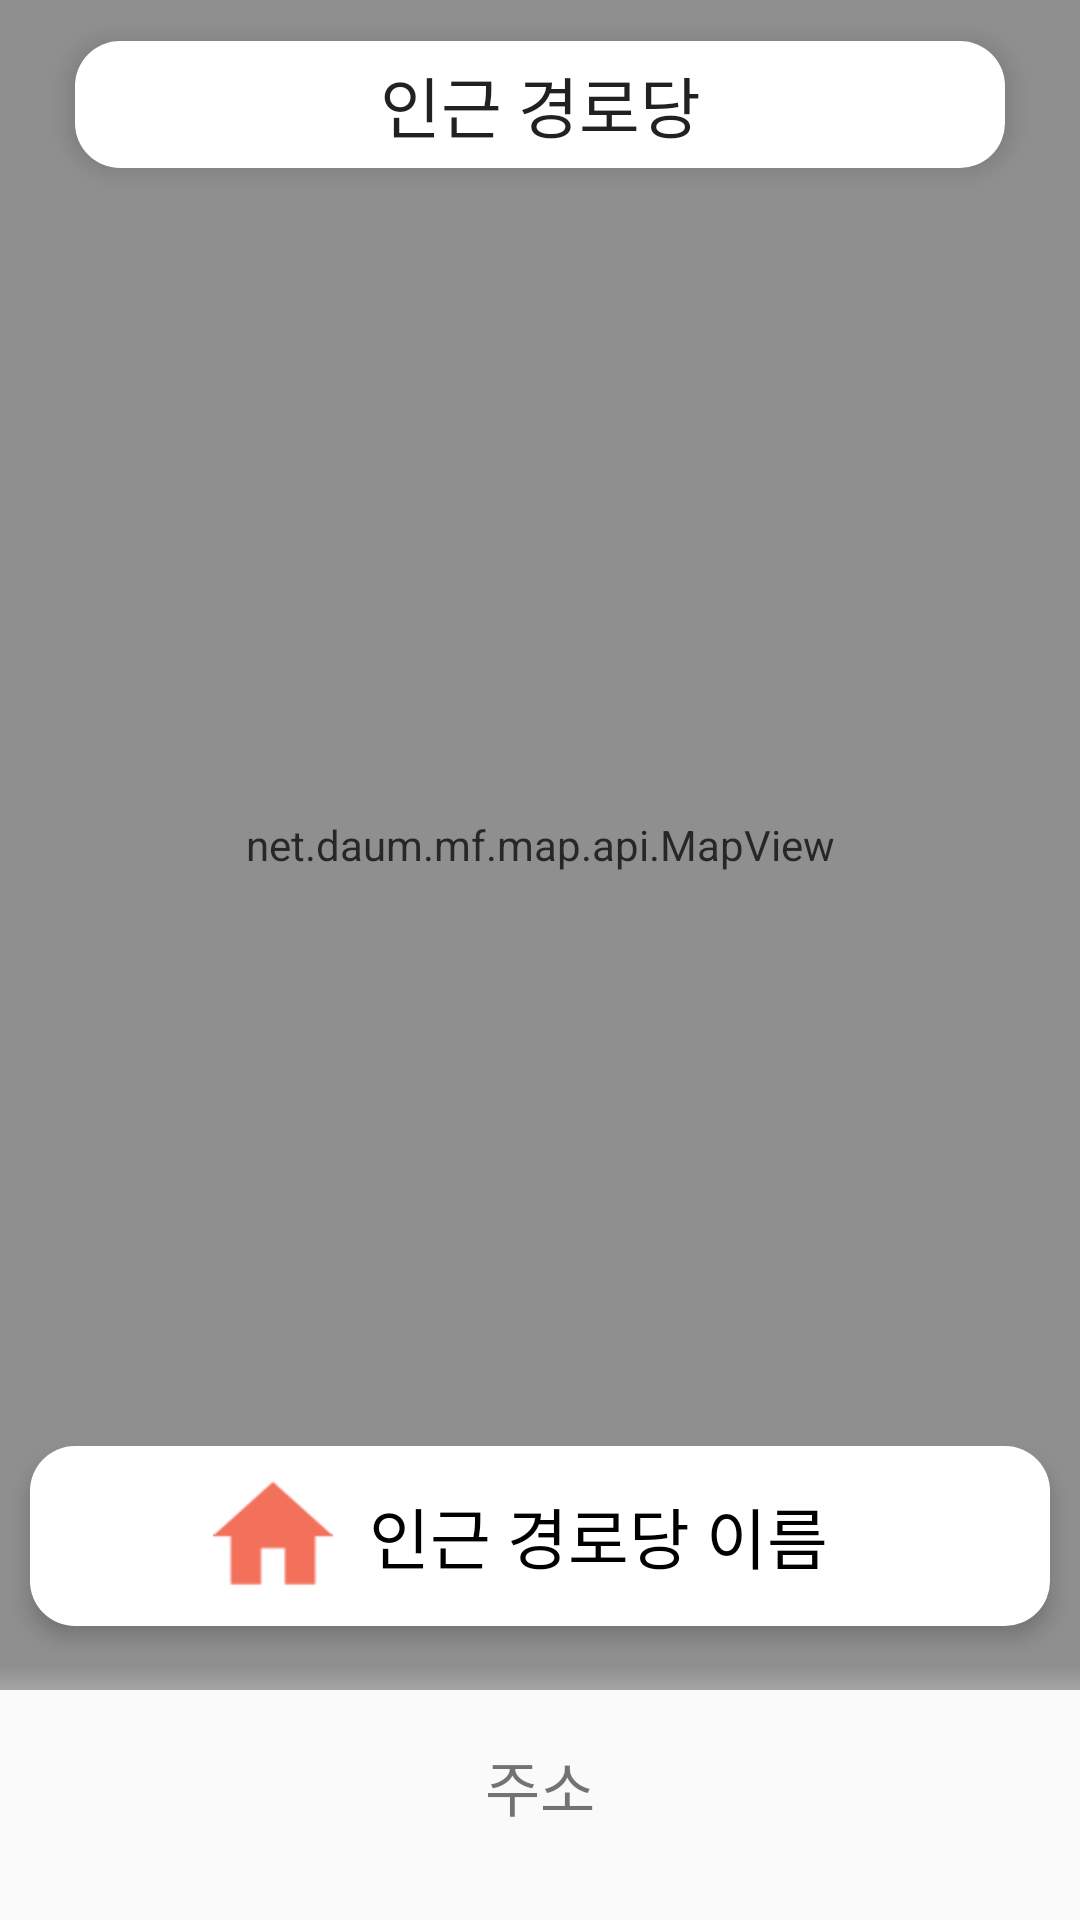

Screen size 1080 x 1920. Icon name, then its box in pixels as (x1, y1, x2, y2):
housepin: (213, 1481, 333, 1585)
